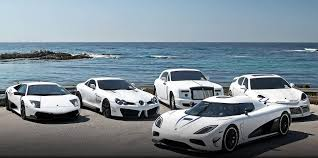car: (145, 97, 291, 151), (72, 70, 158, 125), (228, 73, 313, 127), (2, 74, 83, 125), (150, 66, 226, 114)
